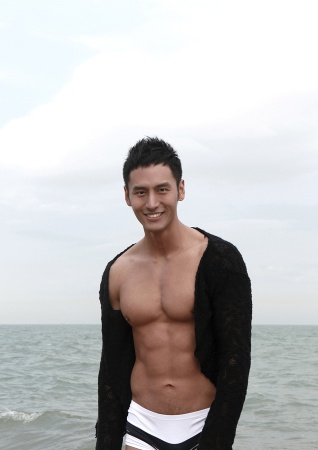male: (110, 132, 197, 248)
